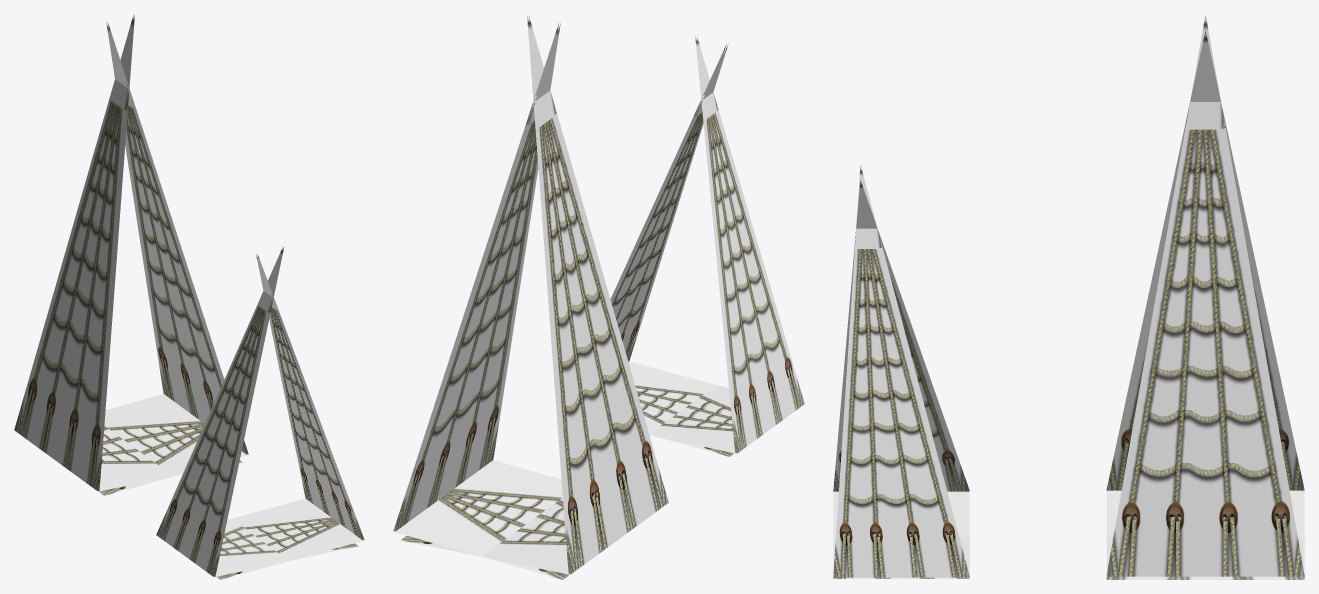
The model's file is kart_trireme_shrouds.dae.
3 views of the same model, side by side, from view 1: azimuth 30°, elevation 25°; view 2: azimuth 150°, elevation 25°; view 3: azimuth 270°, elevation 25° (orthographic). The views are drawn at different scales.
Visible parts, largest first — view 1: Pyramid004; view 2: Pyramid004; view 3: Pyramid004.
Part boxes in pixels (bbox=[...]): Pyramid004: bbox=[14, 15, 364, 579]; Pyramid004: bbox=[393, 15, 804, 579]; Pyramid004: bbox=[833, 15, 1304, 579].
Size of the model in its own units: 5.69 by 15.64 by 13.07.
